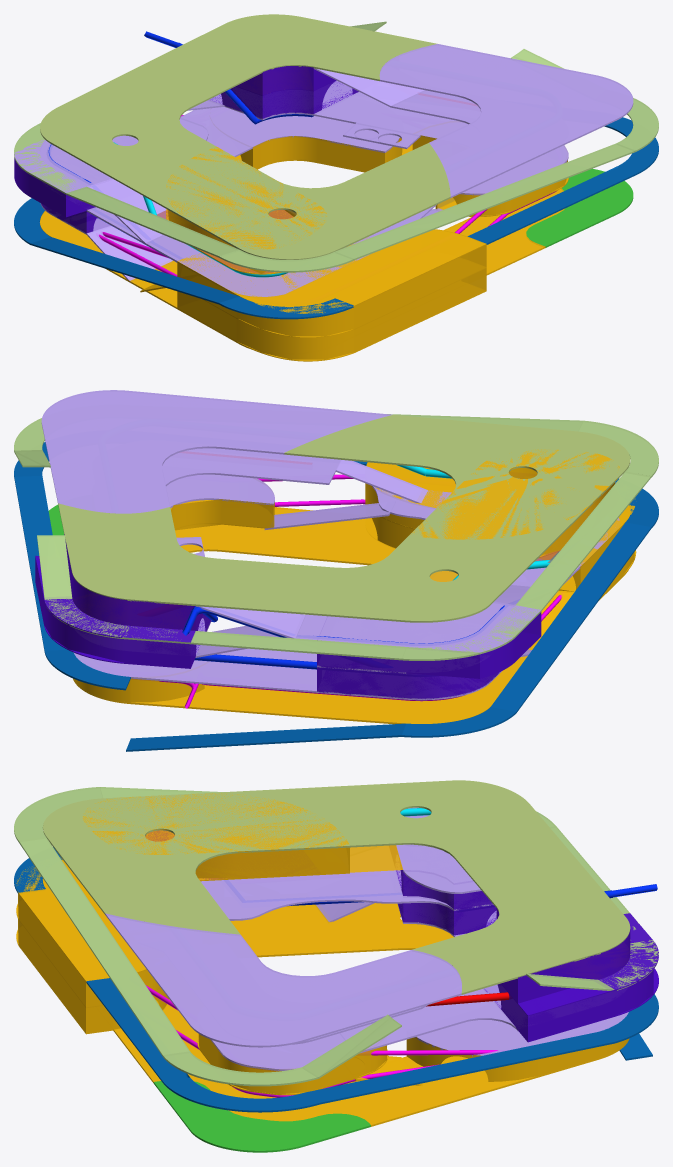
File: ARCHI-MIDDLE.fbx
The picture shows the model from 3 angles, top to bottom: view 1: azimuth 30°, elevation 25°; view 2: azimuth 150°, elevation 25°; view 3: azimuth 270°, elevation 25°; orthographic projection. The views are drawn at different scales.
Parts seen in each view (by area): view 1: pipeline1, restaurant, car rail, store, storewall, kitchenwall, delivery rail, kitchen; view 2: pipeline1, restaurant, car rail, store, kitchenwall, storewall, delivery rail, kitchen; view 3: pipeline1, restaurant, store, car rail, storewall, kitchenwall, kitchen, delivery rail.
Boxes of the visible parts, x1,y1,x2,y2 form: pipeline1: [40, 14, 450, 273]; restaurant: [14, 44, 633, 296]; car rail: [14, 21, 658, 319]; store: [40, 144, 633, 361]; storewall: [167, 135, 567, 359]; kitchenwall: [14, 66, 358, 233]; delivery rail: [48, 31, 556, 277]; kitchen: [14, 80, 352, 229]; pipeline1: [58, 414, 630, 622]; restaurant: [41, 390, 619, 700]; car rail: [14, 414, 658, 751]; store: [48, 449, 636, 724]; kitchenwall: [35, 534, 541, 698]; storewall: [74, 468, 634, 702]; delivery rail: [159, 465, 561, 708]; kitchen: [35, 555, 541, 699]; pipeline1: [43, 780, 630, 994]; restaurant: [105, 807, 628, 1070]; store: [16, 793, 629, 1152]; car rail: [14, 787, 658, 1112]; storewall: [18, 847, 628, 1094]; kitchenwall: [398, 870, 653, 1041]; kitchen: [396, 870, 658, 1042]; delivery rail: [146, 808, 657, 1097].
Bounding box in the file's own units: 7151 × 1658 × 6727.
